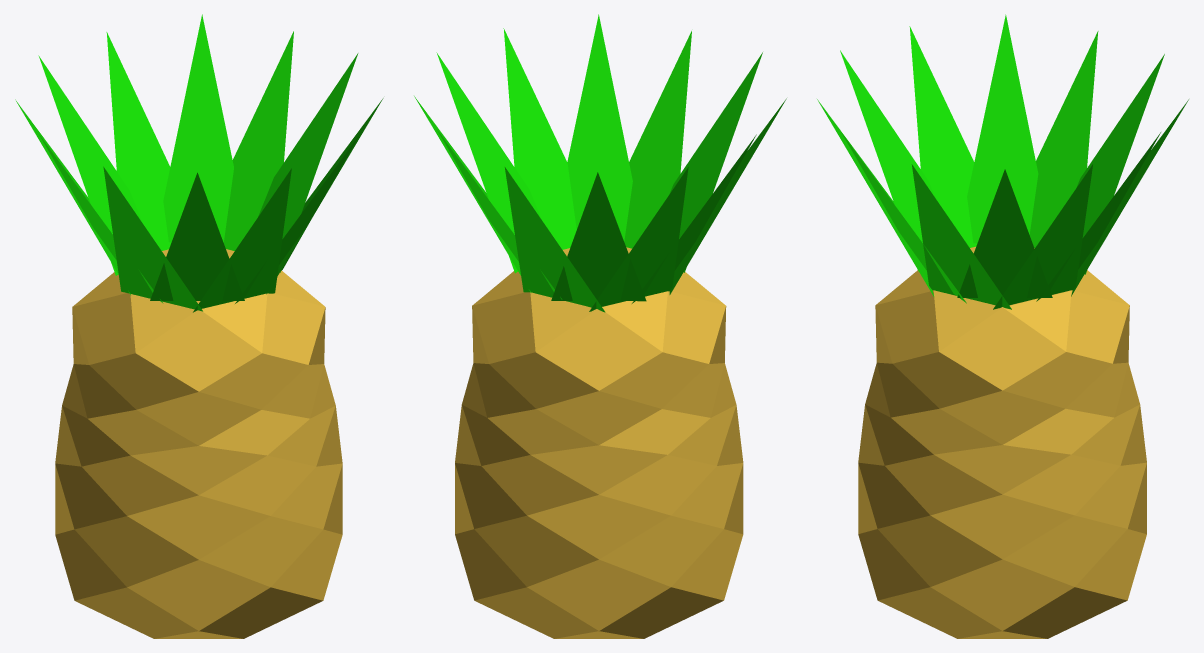
The model's file is Nanas.fbx.
The picture shows the model from 3 angles, left to right: view 1: azimuth 30°, elevation 25°; view 2: azimuth 150°, elevation 25°; view 3: azimuth 270°, elevation 25°; orthographic projection.
Visible parts, largest first — view 1: Cylinder; view 2: Cylinder; view 3: Cylinder.
Part boxes in pixels (<box>): Cylinder: <box>15,14,383,638</box>; Cylinder: <box>414,14,786,638</box>; Cylinder: <box>817,14,1188,638</box>.
Bounding box in the file's own units: 322 × 494 × 324.
